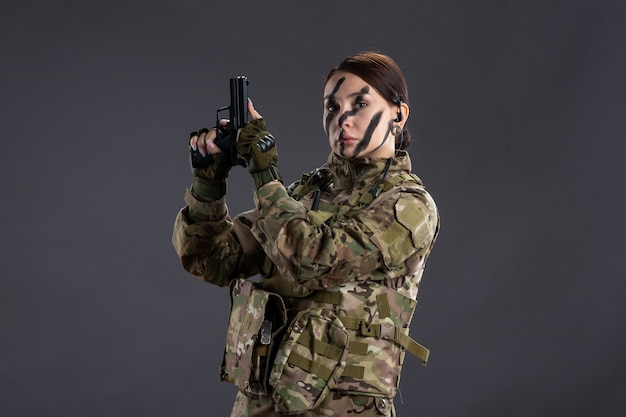gun: (195, 75, 252, 162)
